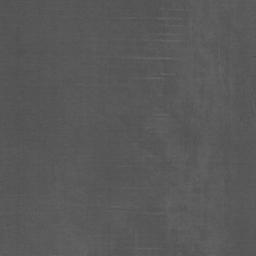Waist folding: (145, 32, 171, 43), (129, 16, 180, 21), (134, 55, 176, 61), (136, 76, 161, 81)
